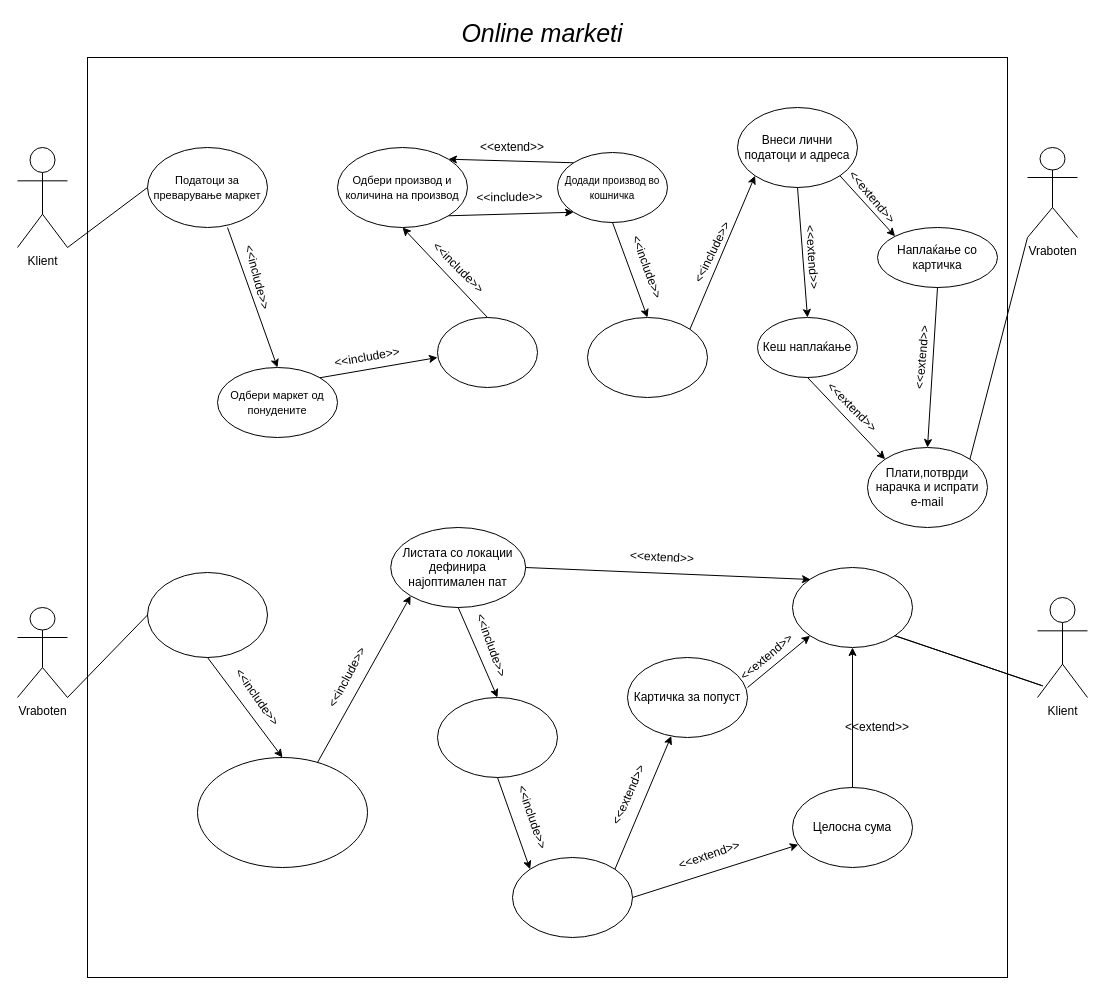
Some shapes in this 1105 by 1003 pixel diagram are drawn without their labels. The centre of each missing label's shape, as x and y in pixels:
Внеси код на нарачка: (x=572, y=897)
Внесување на производите во возилото и додавање адреси во листа со локации: (x=282, y=812)
Креирај нарачка: (x=487, y=352)
Купи производи: (x=647, y=357)
Најава на вработен во системот: (x=497, y=737)
Проверка на нарачките и печатење информации: (x=207, y=615)
Фискална сметка: (x=852, y=607)
